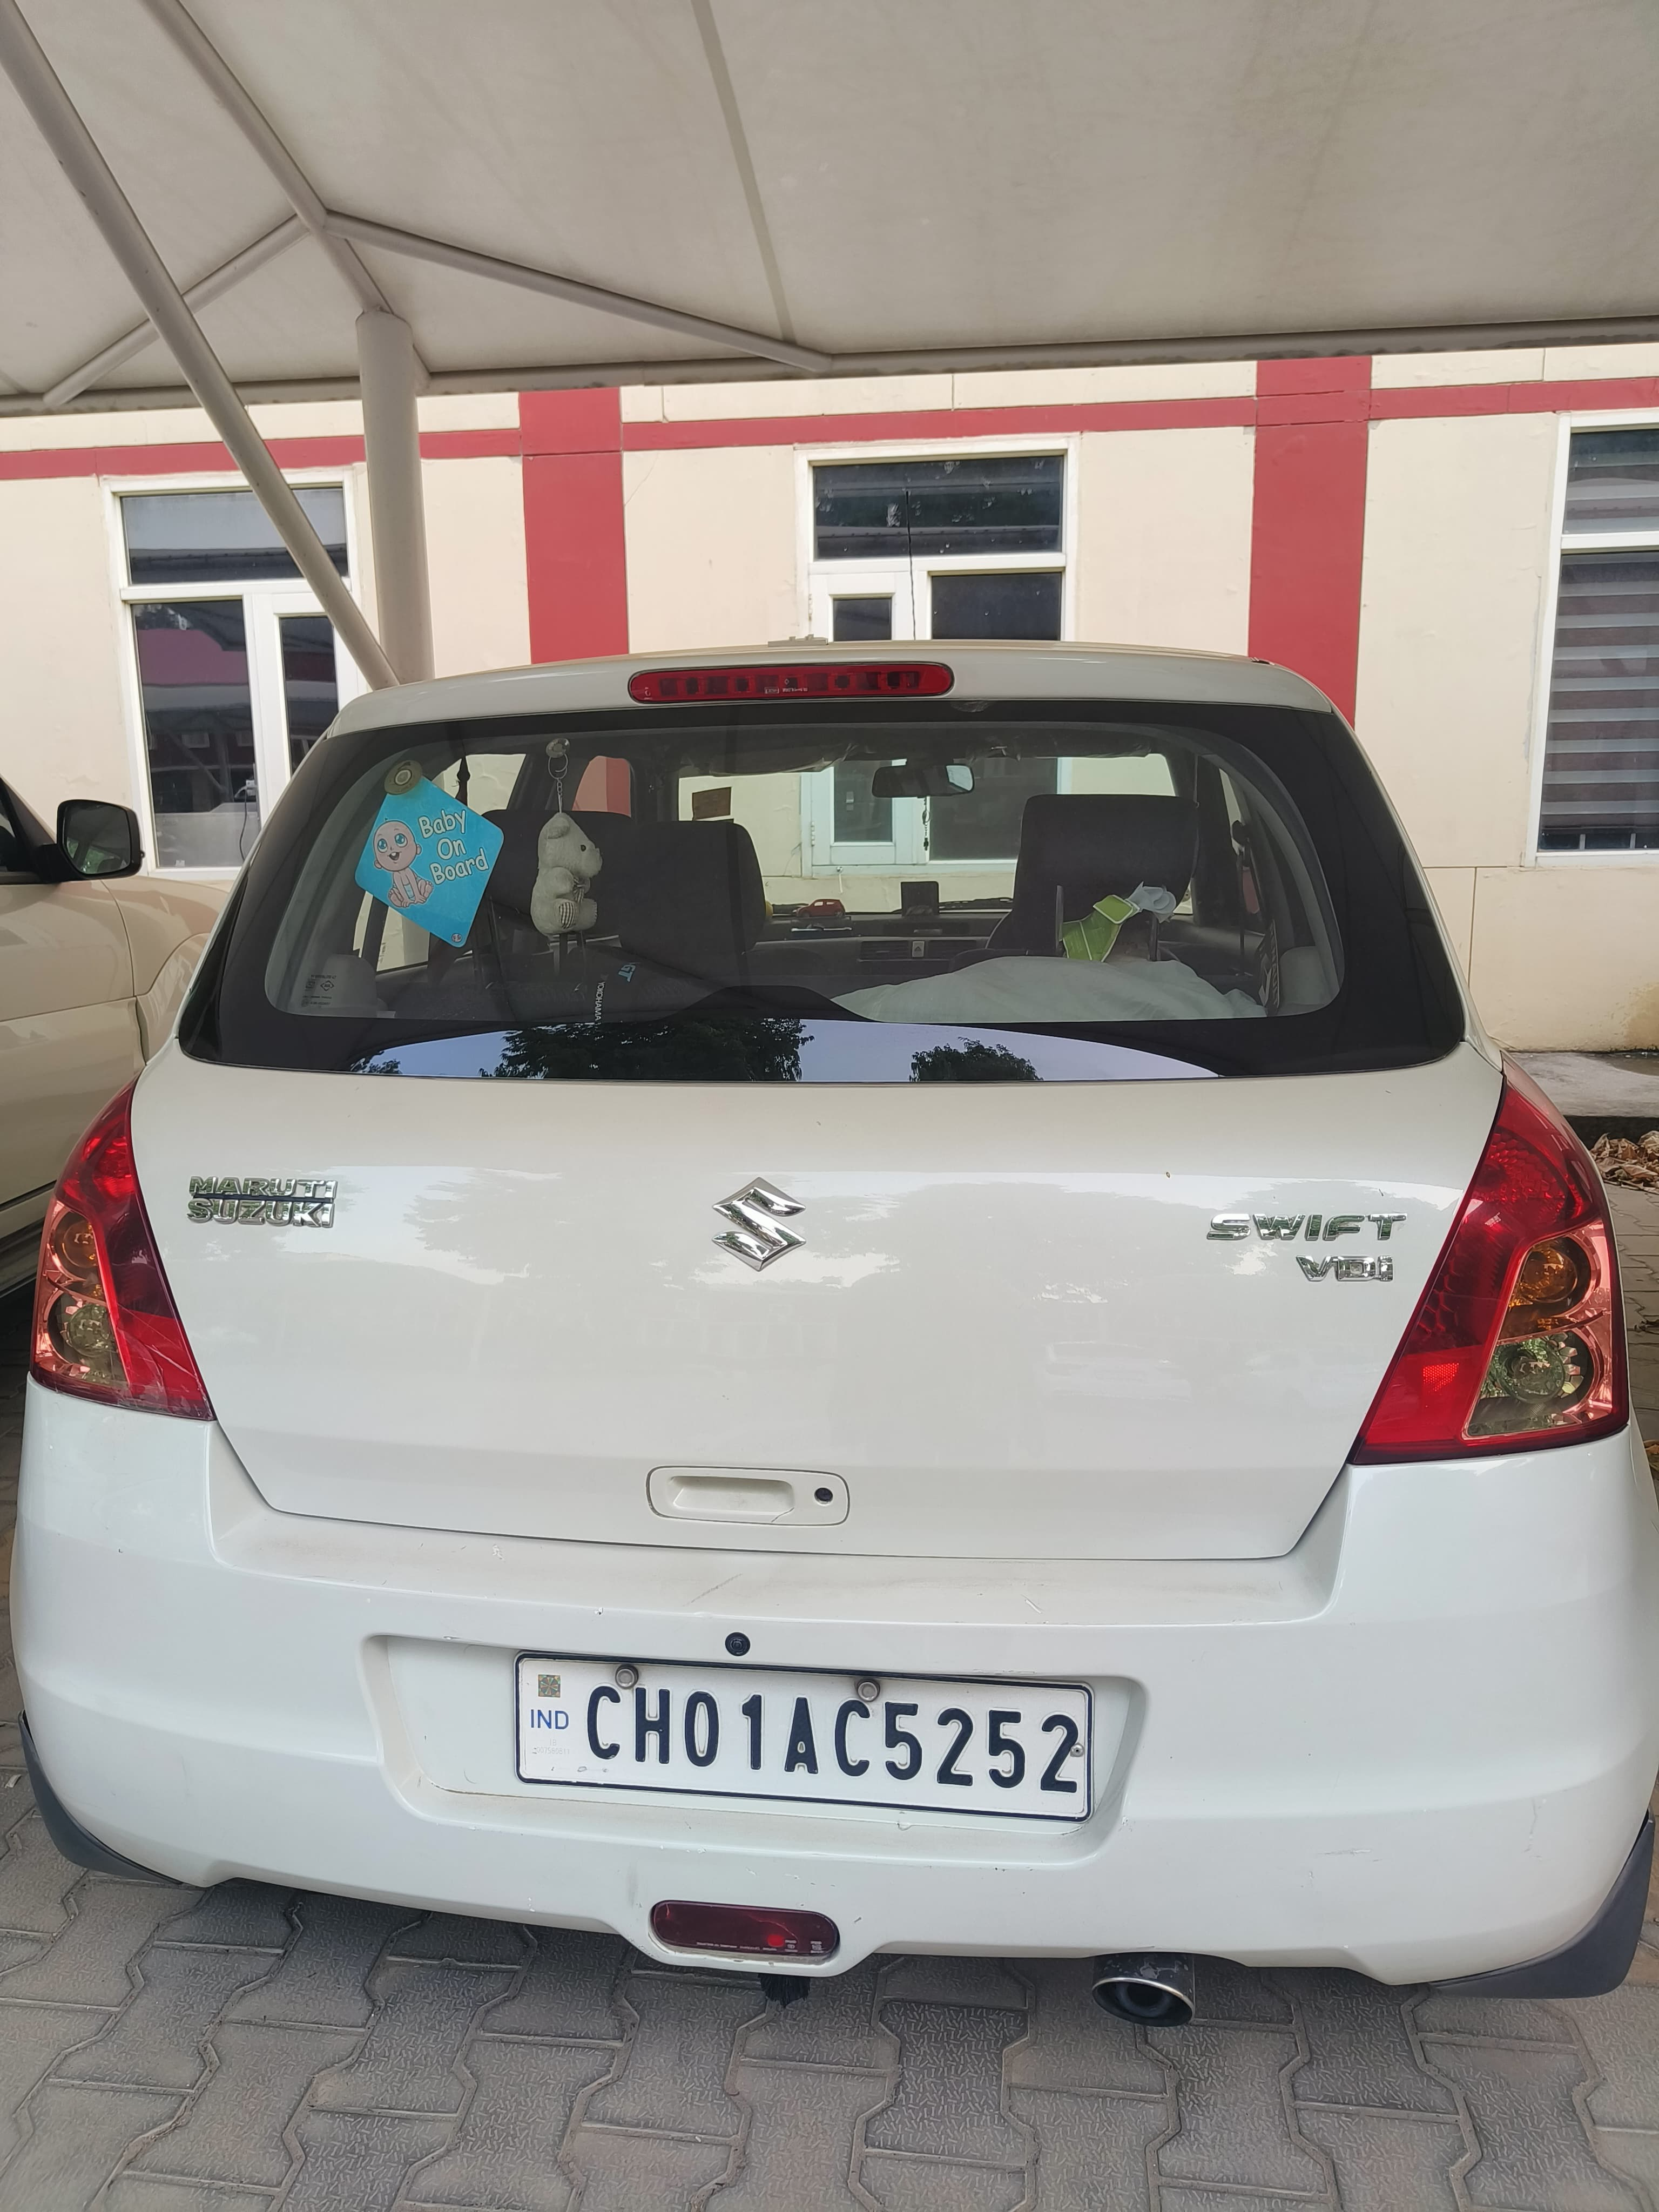license plate: (516, 1654, 1092, 1820)
